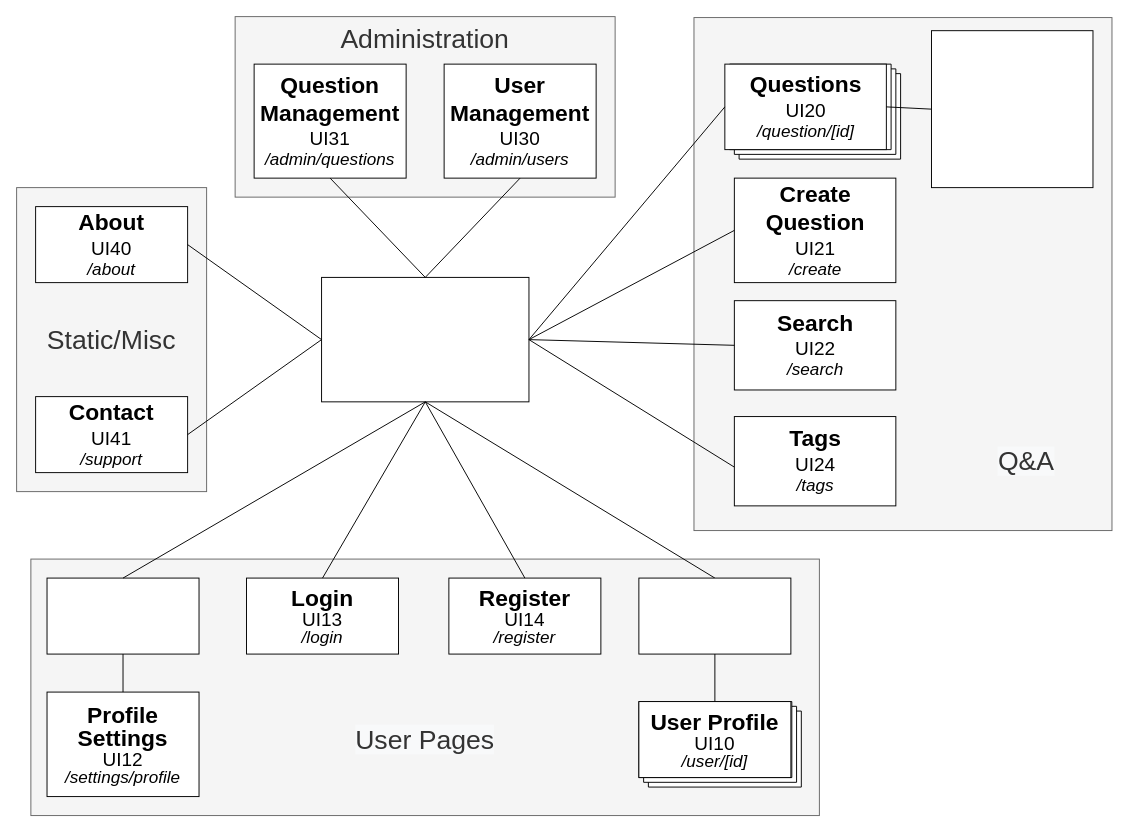
This 1129x832 diagram has some shape labels left out. The centre of each missing label's shape, as x and y in pixels:
"Edit Question/ Answer/ Comment UI23 / question /[id]/edit" goes at point (1012, 109).
"Homepage UI01 /" goes at point (425, 339).
"Settings UI11 /settings" goes at point (122, 615).
"Users UI15 /users" goes at point (714, 615).
